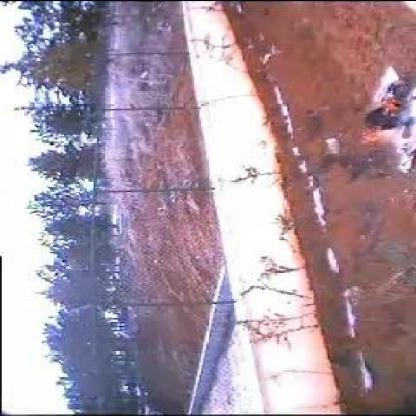-: (353, 156, 386, 169)
foggia-v2-map80-epoch100 - v1 4323: (361, 127, 382, 145)
